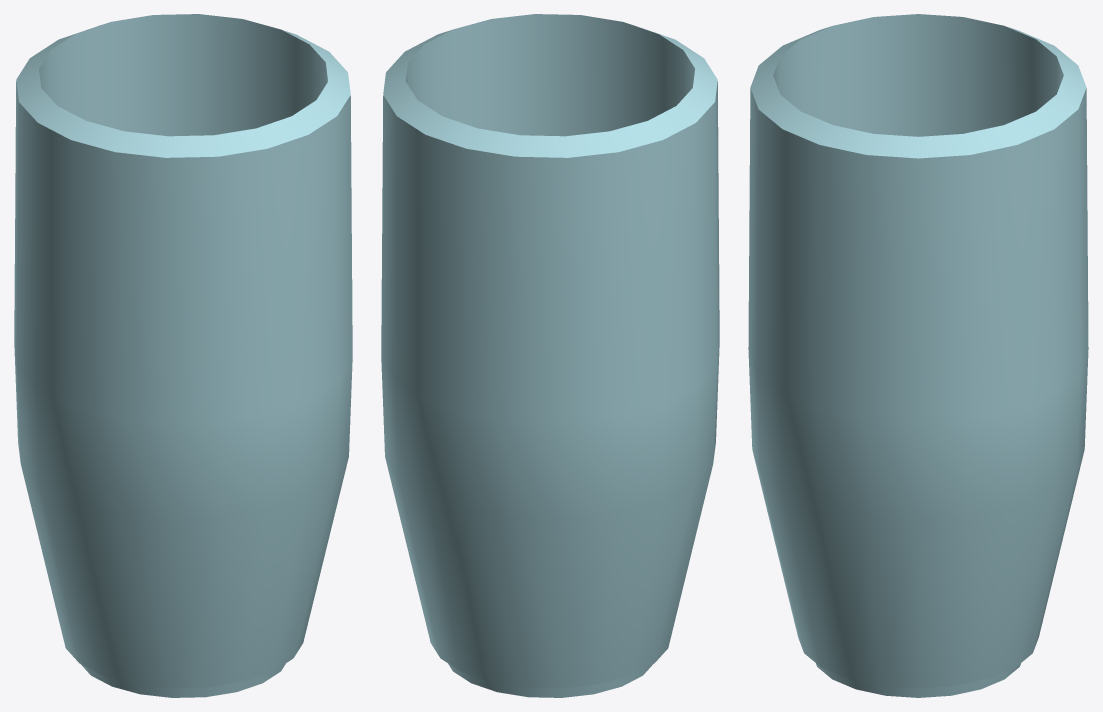
Rendered from glass.fbx.
3 renders of one model, left to right at view 1: azimuth 30°, elevation 25°; view 2: azimuth 150°, elevation 25°; view 3: azimuth 270°, elevation 25°, orthographic.
Visible parts, largest first — view 1: pCylinder1; view 2: pCylinder1; view 3: pCylinder1.
Boxes of the visible parts, left/top/right/bottom form: pCylinder1: left=14, top=14, right=352, bottom=697; pCylinder1: left=381, top=14, right=719, bottom=697; pCylinder1: left=748, top=14, right=1088, bottom=697.
Bounding box in the file's own units: 72.9 × 137 × 72.9.
